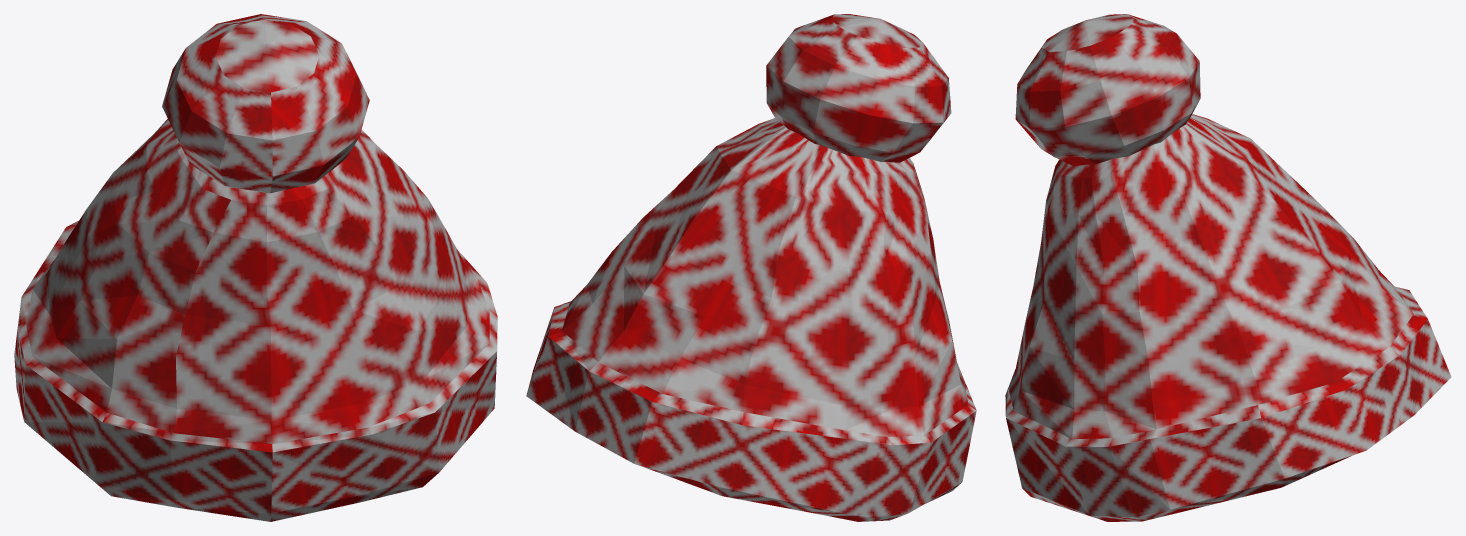
The model's file is PATTERN POMPOM HAT.fbx.
3 renders of one model, left to right at view 1: azimuth 30°, elevation 25°; view 2: azimuth 150°, elevation 25°; view 3: azimuth 270°, elevation 25°, orthographic. The views are drawn at different scales.
Visible parts, largest first — view 1: PATTERN_POMPOM_HAT; view 2: PATTERN_POMPOM_HAT; view 3: PATTERN_POMPOM_HAT.
Boxes of the visible parts, x1,y1,x2,y2 form: PATTERN_POMPOM_HAT: (14,14,497,521); PATTERN_POMPOM_HAT: (526,14,976,521); PATTERN_POMPOM_HAT: (1005,14,1451,521).
Size of the model in its own units: 31.38 by 33.13 by 31.25.
